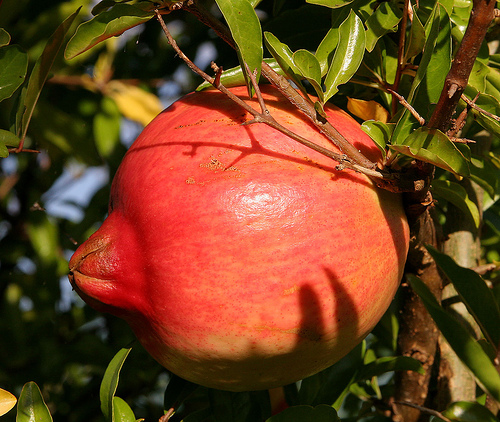pomogranate: (65, 83, 410, 395)
